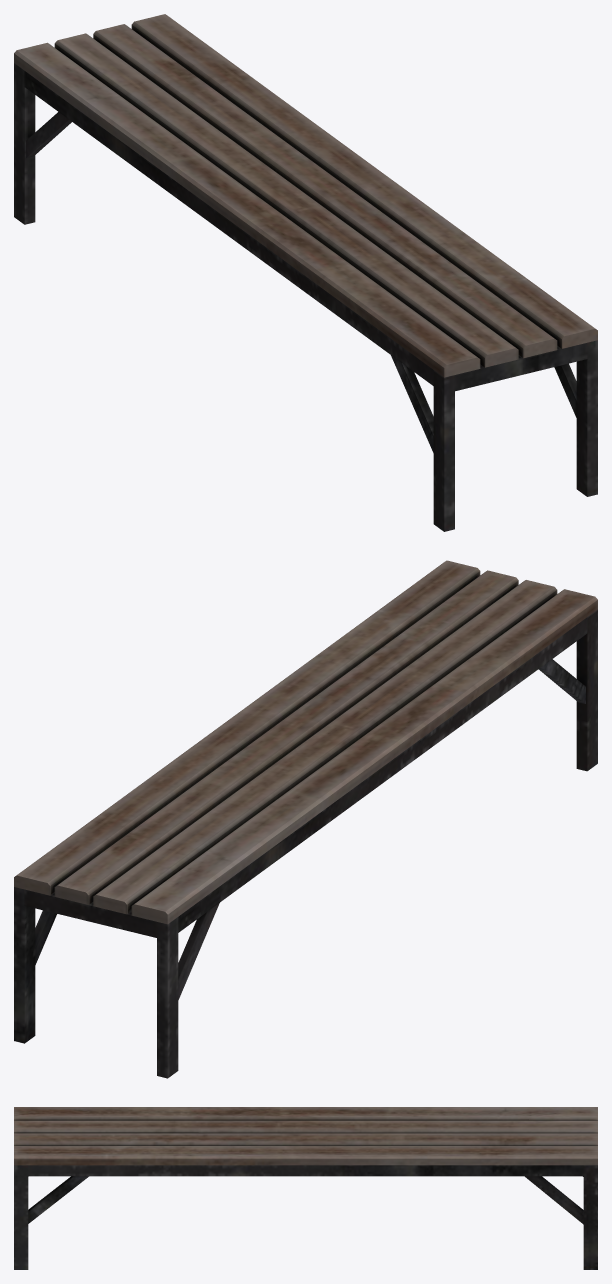
The model's file is Seat.FBX.
3 renders of one model, top to bottom at view 1: azimuth 30°, elevation 25°; view 2: azimuth 150°, elevation 25°; view 3: azimuth 270°, elevation 25°, orthographic. The views are drawn at different scales.
Parts seen in each view (by area): view 1: Seat; view 2: Seat; view 3: Seat.
Boxes of the visible parts, left/top/right/bottom form: Seat: left=14, top=14, right=597, bottom=531; Seat: left=14, top=560, right=597, bottom=1078; Seat: left=14, top=1107, right=597, bottom=1269.
Bounding box in the file's own units: 18.97 × 19.61 × 91.91.
